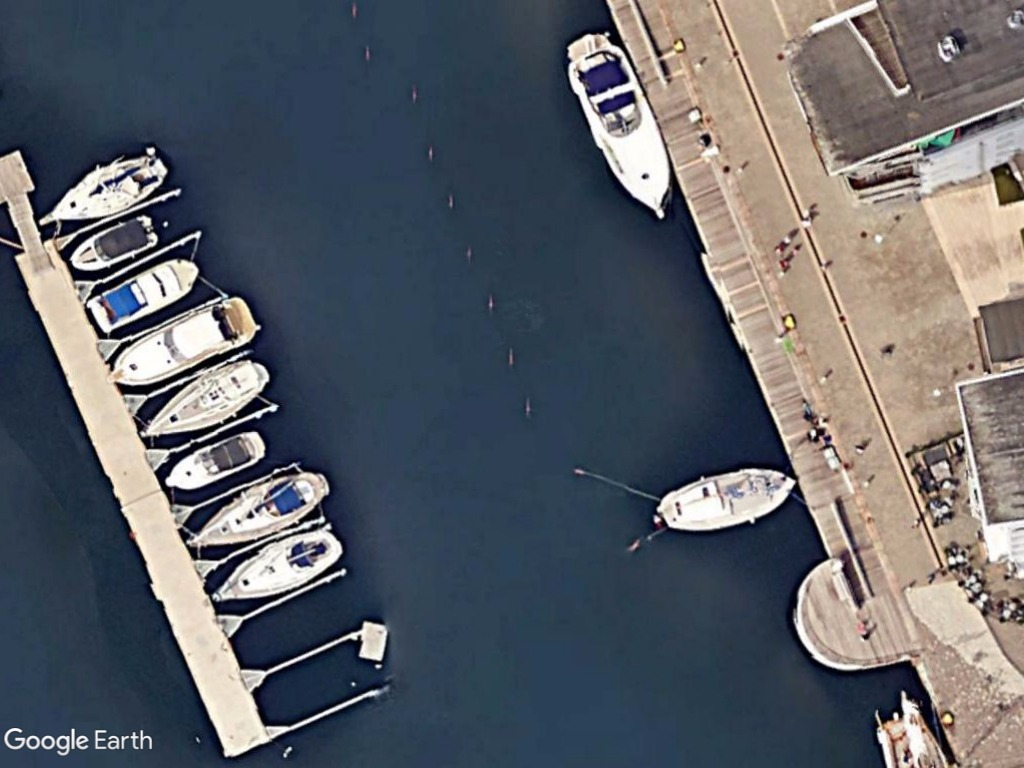boat: (560, 29, 678, 223), (104, 293, 267, 391), (185, 464, 334, 555), (139, 355, 273, 447), (210, 522, 345, 609), (29, 147, 172, 229), (654, 468, 799, 537), (83, 254, 203, 336), (162, 425, 273, 495), (65, 211, 161, 274)
